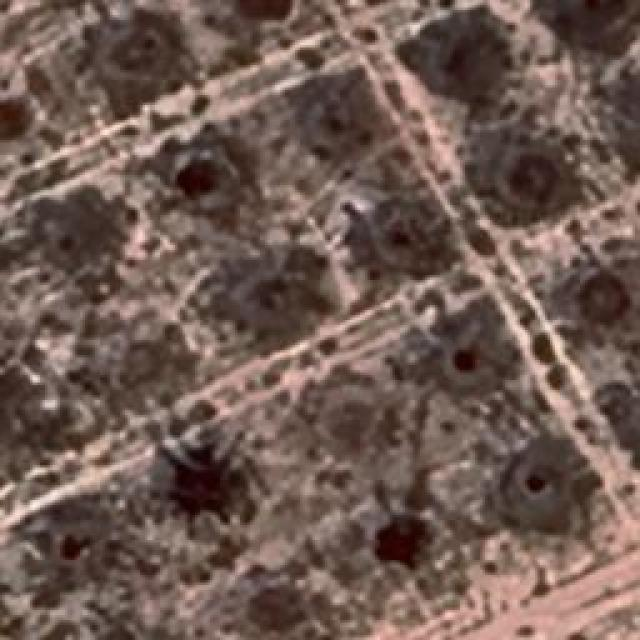PalmTree: (80, 85, 402, 540), (63, 66, 201, 485), (543, 0, 637, 26), (544, 0, 635, 15)
